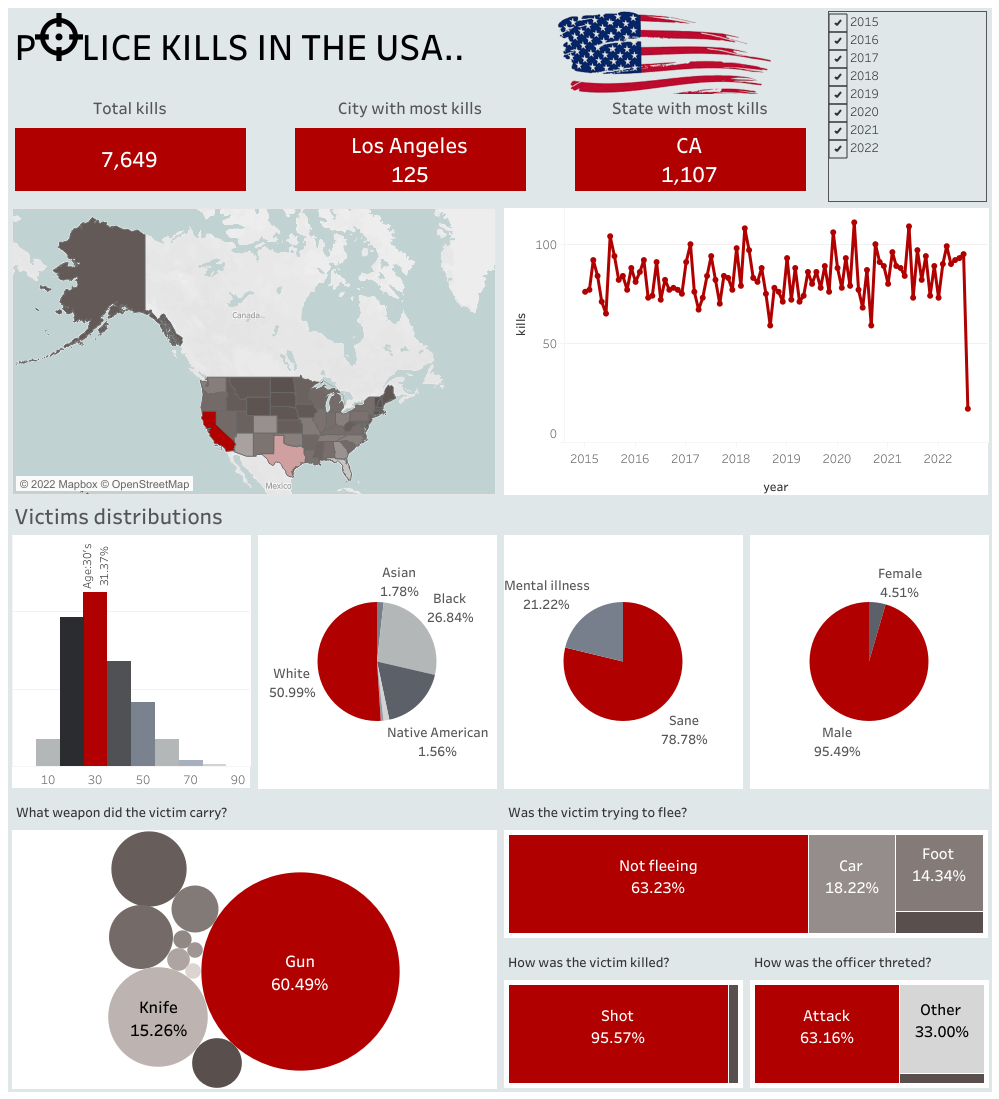

What the dashboard file says about the page in this screenshot:
{"tool":"tableau","page":{"name":"Dashboard 1","canvas":[1000,1100],"ordinal":0},"visuals":[{"type":"image","param":"Image/usa_flag.png","box":[558,7,213,91]},{"type":"title","box":[8,8,984,75]},{"type":"image","param":"Image/aim.png","box":[35,9,48,57]},{"type":"filter","title":"Sheet 10","param":"[federated.0bi22t008gcs2t119idvq0e6nzox].[yr:date:ok]","box":[828,11,159,191]},{"type":"worksheet","title":"Sheet1","mark":"Automatic","box":[15,90,230,100]},{"type":"worksheet","title":"Sheet1 (2)","mark":"Automatic","box":[295,90,230,100]},{"type":"worksheet","title":"Sheet1 (3)","mark":"Automatic","box":[575,90,230,100]},{"type":"worksheet","title":"Sheet 3","mark":"Automatic","box":[8,204.4,492,294.6]},{"type":"worksheet","title":"Sheet 2","mark":"Automatic","rows":["id"],"cols":["date"],"box":[500,204.4,492,294.6]},{"type":"text","box":[8,499,984,31.7]},{"type":"worksheet","title":"Sheet 10","mark":"Automatic","rows":["id"],"cols":["Age (bin)"],"box":[8,530.7,246,261.3]},{"type":"worksheet","title":"Sheet 4","mark":"Pie","box":[254,530.7,246,261.3]},{"type":"worksheet","title":"Sheet 4 (2)","mark":"Pie","box":[500,530.7,246,261.3]},{"type":"worksheet","title":"Sheet 4 (3)","mark":"Pie","box":[746,530.7,246,261.3]},{"type":"worksheet","title":"Sheet 5","mark":"Circle","box":[8,792,492,300]},{"type":"worksheet","title":"Sheet 11","mark":"Automatic","box":[500,792,492,150]},{"type":"worksheet","title":"Sheet 11 (2)","mark":"Automatic","box":[500,942,246,150]},{"type":"worksheet","title":"Sheet 11 (3)","mark":"Automatic","box":[746,942,246,150]}]}

Visuals, with their boxes in screenshot pixels (x1, y1, x2, y2), scaled from the page's 1000x1100 canvas onto the 999x1099 screenshot:
image: <box>557,7,770,98</box>
title: <box>8,8,991,83</box>
image: <box>35,9,83,66</box>
"Sheet 10" filter: <box>827,11,986,202</box>
"Sheet1" worksheet: <box>15,90,245,190</box>
"Sheet1 (2)" worksheet: <box>295,90,524,190</box>
"Sheet1 (3)" worksheet: <box>574,90,804,190</box>
"Sheet 3" worksheet: <box>8,204,500,499</box>
"Sheet 2" worksheet: <box>500,204,991,499</box>
text: <box>8,499,991,530</box>
"Sheet 10" worksheet: <box>8,530,254,791</box>
"Sheet 4" worksheet (Pie marks): <box>254,530,500,791</box>
"Sheet 4 (2)" worksheet (Pie marks): <box>500,530,745,791</box>
"Sheet 4 (3)" worksheet (Pie marks): <box>745,530,991,791</box>
"Sheet 5" worksheet (Circle marks): <box>8,791,500,1091</box>
"Sheet 11" worksheet: <box>500,791,991,941</box>
"Sheet 11 (2)" worksheet: <box>500,941,745,1091</box>
"Sheet 11 (3)" worksheet: <box>745,941,991,1091</box>
